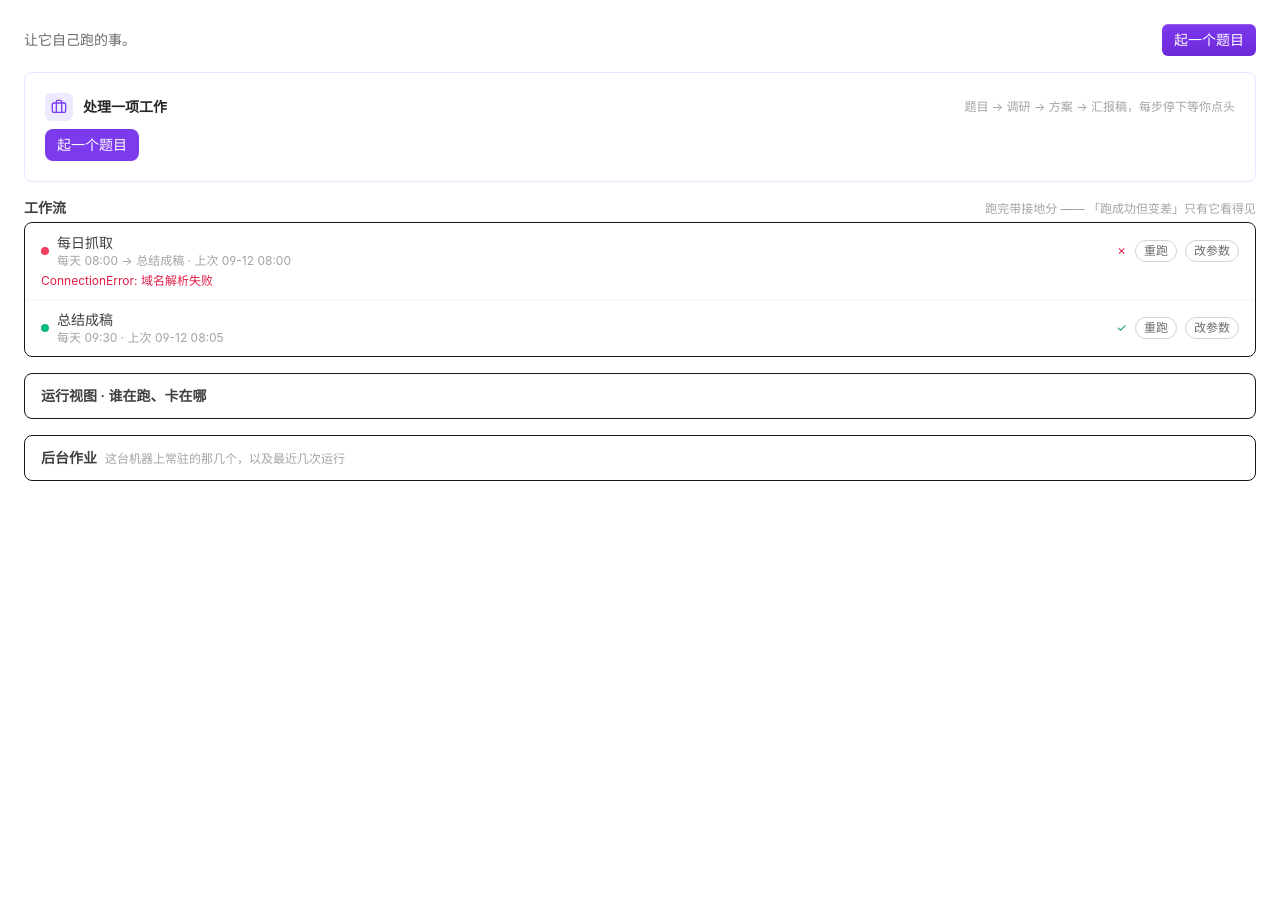
Test case: WorkPage · 失败不再静默（P0） › 错误条**不按 tab 门控**：在非「产出」档触发的失败也浮现出来
Click the 1st button "重跑".
click(1156, 251)  # box [1135, 240, 1177, 262]
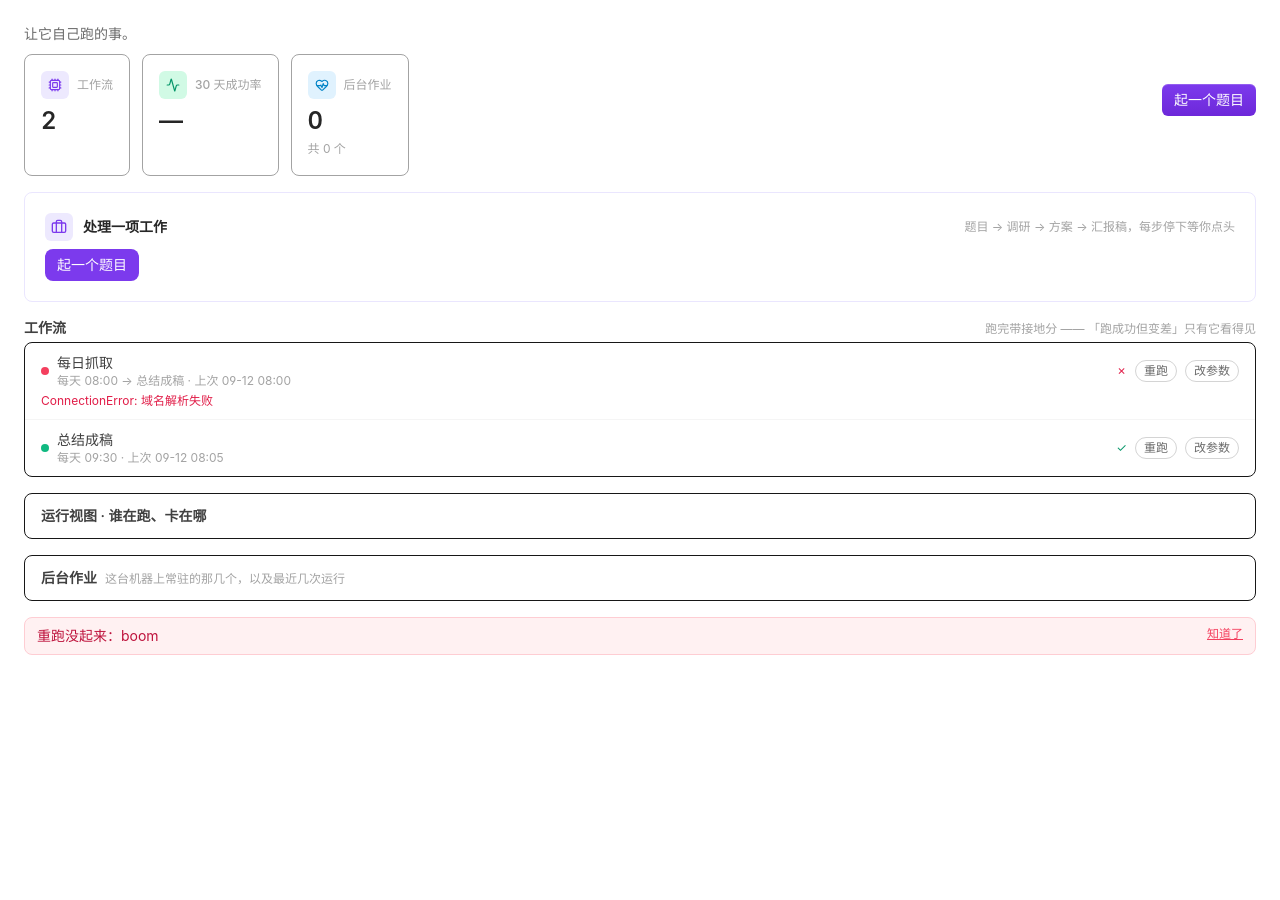
Check: the text "重跑没起来：boom" is shown, box [37, 626, 159, 646]
